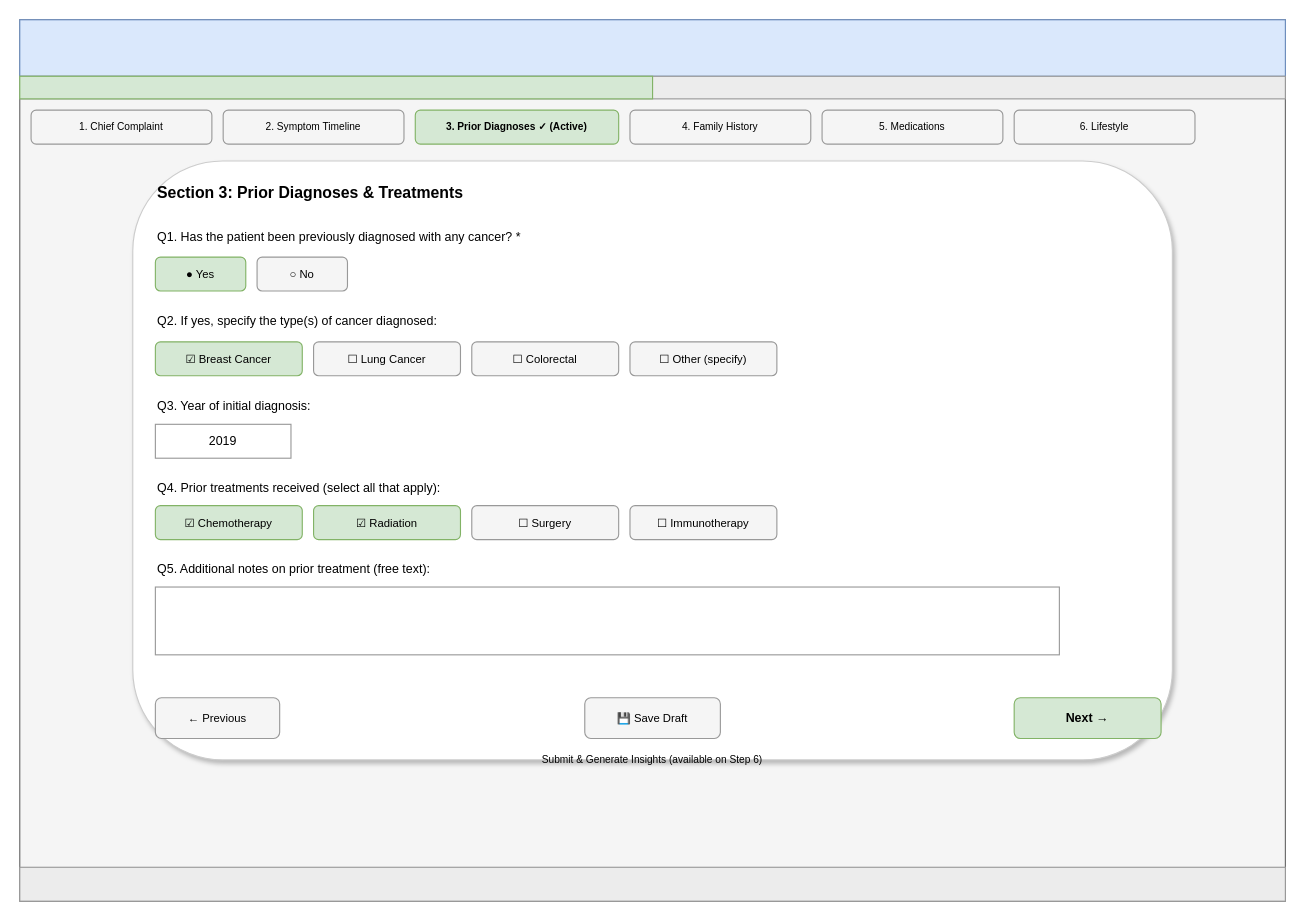
The diagram is 1305 pixels wide and 921 high, and some of its shapes have lost their labels. Each missing label, with the centre of its shape:
"CancerCare OS v1.0 | Connected ● Live | Tue 30 Sep 2026 09:48 AM" belongs at (652,883).
"CancerCare OS | Oncology Intake Questionnaire — Ananya Sharma (MRN-00142)" belongs at (652,47).
"Completed 6 cycles of AC-T chemotherapy in 2020. Partial remission achieved." belongs at (606,620).
"Step 3 of 6 — Prior Diagnoses & Treatments (50% complete)" belongs at (336,87).
